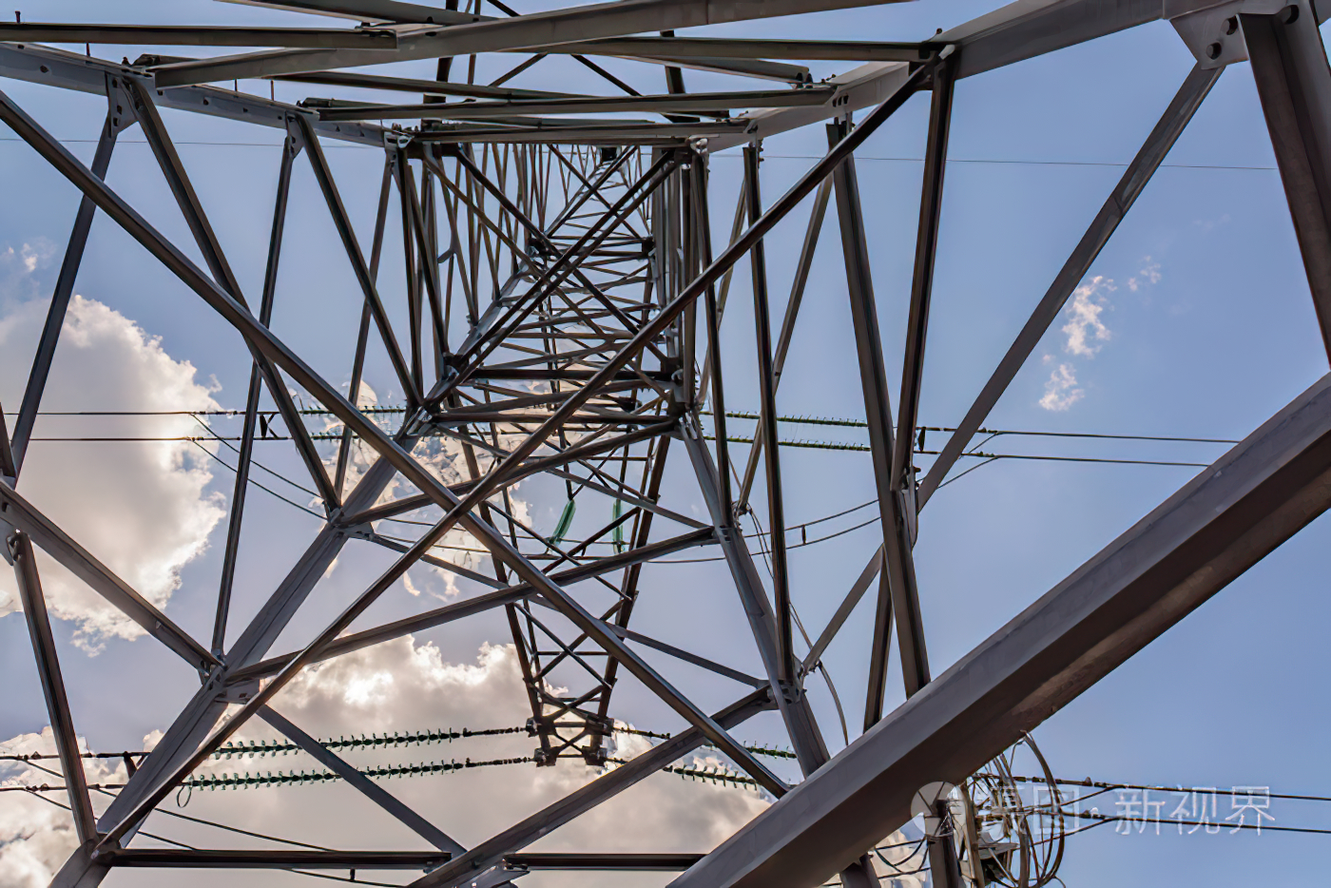insulator: (188, 725, 472, 792), (668, 731, 805, 796), (704, 427, 877, 458), (714, 402, 867, 432), (298, 398, 416, 420), (550, 501, 582, 539), (306, 428, 362, 449), (610, 499, 629, 541)
